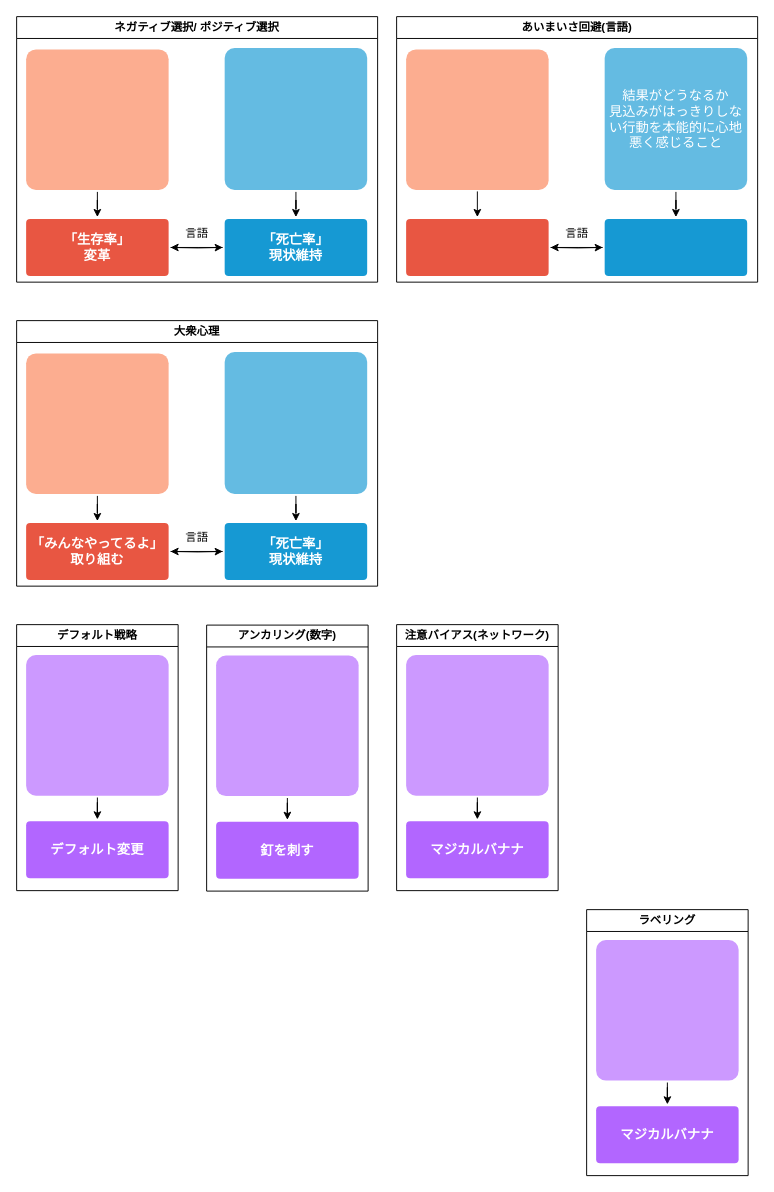
Some shapes in this 774 by 1192 pixel diagram are drawn without their labels. Here are the shapes that lost their labels. From the top down, the centre of each, then its label:
pixel 97 119: 癌の外科手術の効果について死亡率の代わりに生存率が示された場合、 医師が手術を選択する割合は34%増加した McNeil 1982
pixel 477 247: 「確定演出」 「100%」 変革
pixel 675 247: 「不明です」 「30%ぐらいです」 現状維持
pixel 97 423: 横断歩道 みんなで渡れば 怖くない
pixel 97 725: Google社内のカフェテリアで、ちょうど目線の高さにある商品を 炭酸飲料から水に変えたところ、水を選ぶ方が47%も増加した Kuang 2012
pixel 287 725: 初めに出した見積もりが誤りでもそれを基準に見積もること 住居の買い手が最初に到着した住居の価格を基準に考えてしまうこと
pixel 477 725: 内面の状態によって周囲の注意の仕方が変わってしまうこと 薬物依存の患者は望む望まないにかかわらず、薬物に関連する情報を選択する
pixel 667 1010: 行動の一貫性の原理を 応用した技術の一つ。 相手の認識するレッテルを利用し、その通りに動かす
